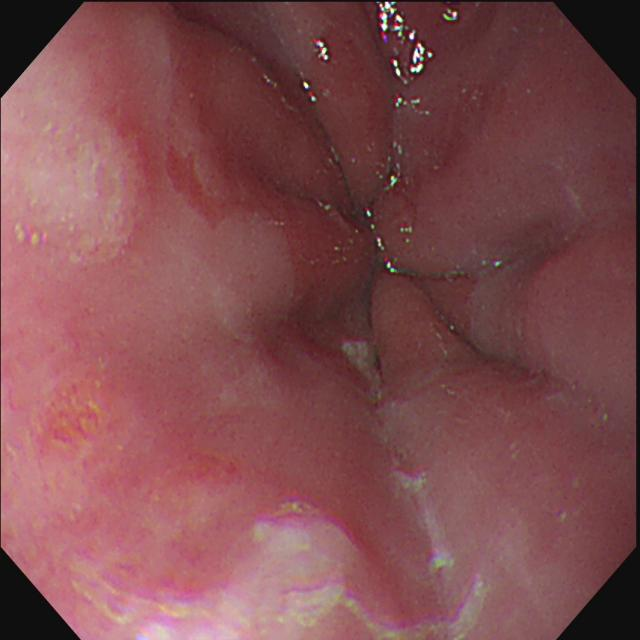I: (159, 25, 559, 407)
U: (379, 2, 433, 83)
